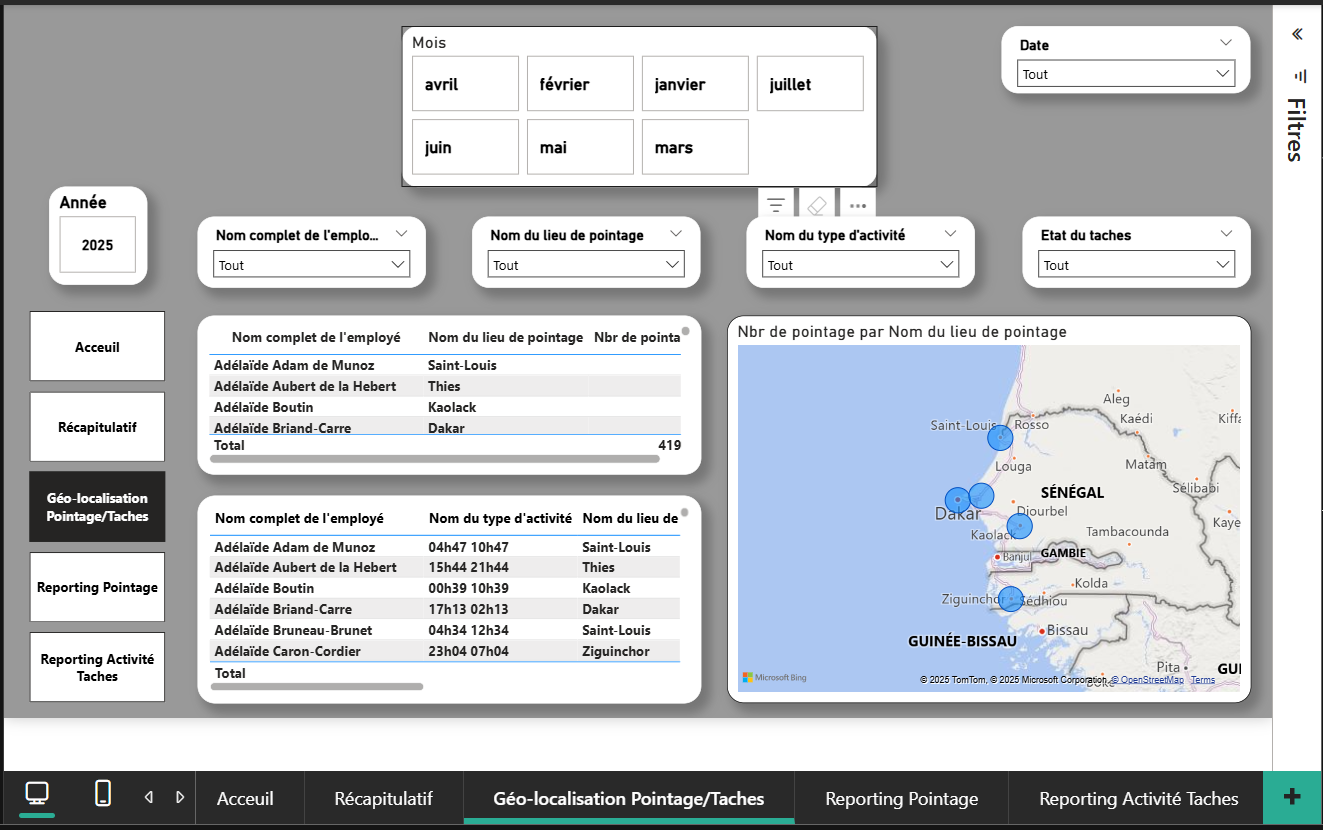

The dashboard page shown, as its layout file describes it:
{"tool":"powerbi","page":{"name":"Géo-localisation Pointage/Taches","canvas":[1280,720],"ordinal":2},"visuals":[{"type":"advancedSlicerVisual","fields":{"Values":["TableDate.Mois"]},"box":[400.6,20.8,480,162.5],"z":0},{"type":"slicer","fields":{"Values":["TableDate.Date"]},"box":[1007.3,20.8,251.3,68],"z":1000},{"type":"advancedSlicerVisual","fields":{"Values":["TableDate.Année"]},"box":[44.7,183.7,99.1,99.1],"z":2000},{"type":"slicer","fields":{"Values":["Sheet1.Nom complet de l'employé"]},"box":[194.6,213.5,230.6,71.8],"z":3000},{"type":"slicer","fields":{"Values":["Sheet1.Nom du lieu de pointage"]},"box":[472.4,213.5,230.6,71.8],"z":4000},{"type":"slicer","fields":{"Values":["Sheet1.Nom du type d'activité"]},"box":[750.2,213.5,230.6,71.8],"z":5000},{"type":"slicer","fields":{"Values":["Sheet1.Etat du taches"]},"box":[1028,213.5,230.6,71.8],"z":6000},{"type":"tableEx","fields":{"Values":["Sheet1.Nom complet de l'employé","Sheet1.Nom du lieu de pointage","Mesures.Nbr de pointage"]},"box":[194.6,313.7,508.4,160.6],"z":7000},{"type":"map","fields":{"Category":["Sheet1.Nom du lieu de pointage"],"Size":["Mesures.Nbr de pointage"]},"box":[729.5,313.7,529.1,391.2],"z":8000},{"type":"tableEx","fields":{"Values":["Sheet1.Nom complet de l'employé","Sheet1.Nom du type d'activité","Sheet1.Nom du lieu de pointage","Sum(Sheet1.Timer Munite)","Sum(Sheet1.Heures Timer)","Sum(Sheet1.Minutes Timer)"]},"box":[194.6,495.1,508.4,209.8],"z":9000},{"type":"pageNavigator","box":[25.6,308.4,137.4,396.2],"z":10000}]}

Visuals, with their boxes on the page's 1280x720 design canvas (x1, y1, x2, y2). These are canvas units, not pixel positions in the 1323x830 screenshot, which may show the page scaled, cropped or inside an application window:
advancedSlicerVisual - TableDate.Mois: (401,21,881,183)
slicer - TableDate.Date: (1007,21,1259,89)
advancedSlicerVisual - TableDate.Année: (45,184,144,283)
slicer - Sheet1.Nom complet de l'employé: (195,214,425,285)
slicer - Sheet1.Nom du lieu de pointage: (472,214,703,285)
slicer - Sheet1.Nom du type d'activité: (750,214,981,285)
slicer - Sheet1.Etat du taches: (1028,214,1259,285)
tableEx - Sheet1.Nom complet de l'employé x Sheet1.Nom du lieu de pointage: (195,314,703,474)
map - Sheet1.Nom du lieu de pointage x Mesures.Nbr de pointage: (730,314,1259,705)
tableEx - Sheet1.Nom complet de l'employé x Sheet1.Nom du type d'activité: (195,495,703,705)
pageNavigator: (26,308,163,705)
